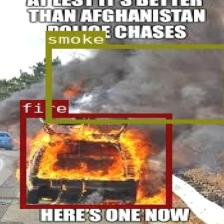fire: (19, 113, 170, 208)
smoke: (45, 44, 224, 122)
